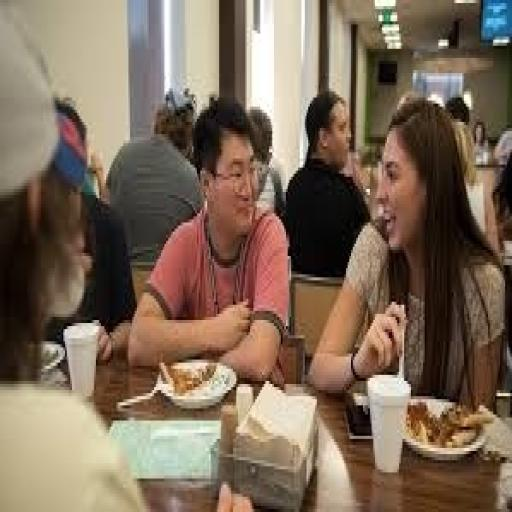eating: (306, 92, 507, 412), (125, 91, 291, 387)
